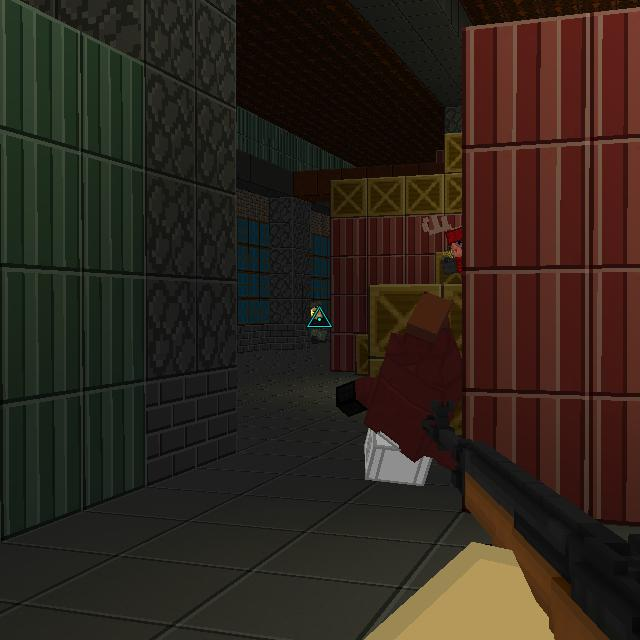enemy: (421, 212, 465, 284), (307, 298, 329, 343)
